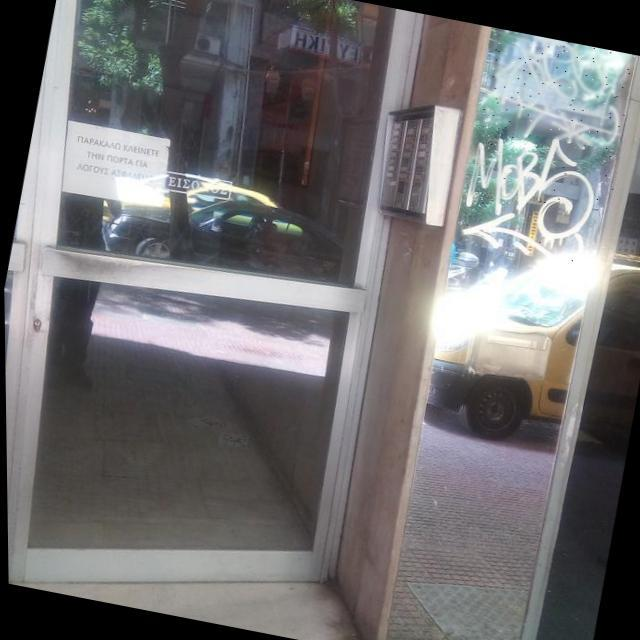-: (457, 126, 622, 272), (478, 28, 636, 152)
